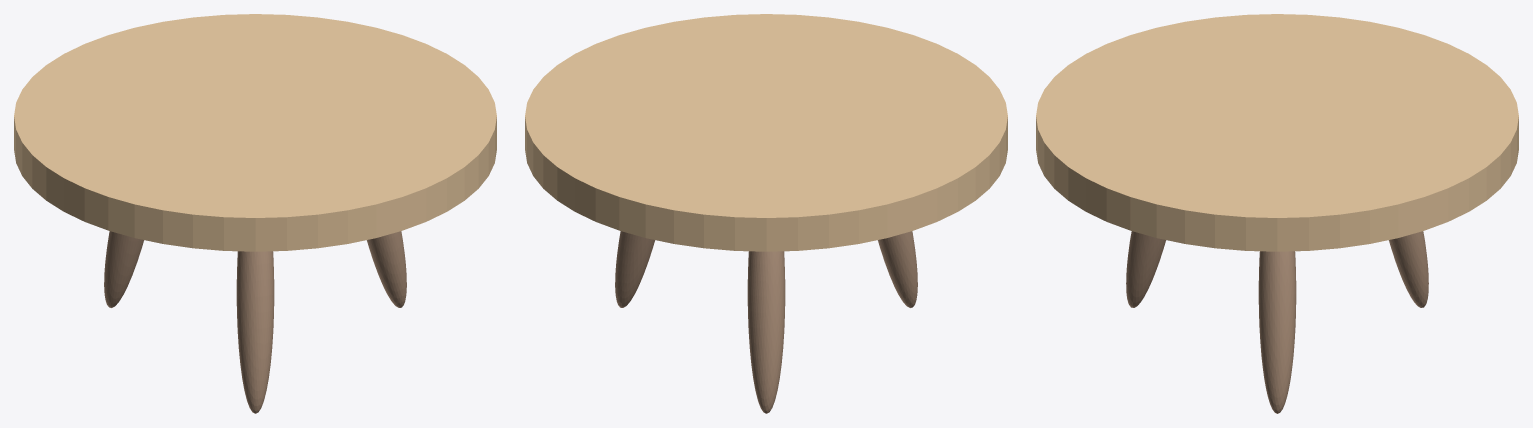
File: coffee-table.glb
The picture shows the model from 3 angles, left to right: view 1: azimuth 30°, elevation 25°; view 2: azimuth 150°, elevation 25°; view 3: azimuth 270°, elevation 25°; orthographic projection.
Parts seen in each view (by area): view 1: top, leg2, leg0, leg1; view 2: top, leg1, leg0, leg2; view 3: top, leg0, leg1, leg2.
Boxes of the visible parts, box(x1,y1,x2,y2) form: top: box(14, 14, 496, 251); leg2: box(236, 251, 274, 413); leg0: box(367, 231, 406, 307); leg1: box(104, 231, 143, 307); top: box(525, 14, 1007, 251); leg1: box(747, 251, 785, 413); leg0: box(615, 231, 654, 307); leg2: box(878, 231, 917, 307); top: box(1036, 14, 1518, 251); leg0: box(1258, 251, 1296, 413); leg1: box(1389, 231, 1428, 307); leg2: box(1126, 231, 1165, 307).
Bounding box in the file's own units: 1 × 0.5189 × 1.
